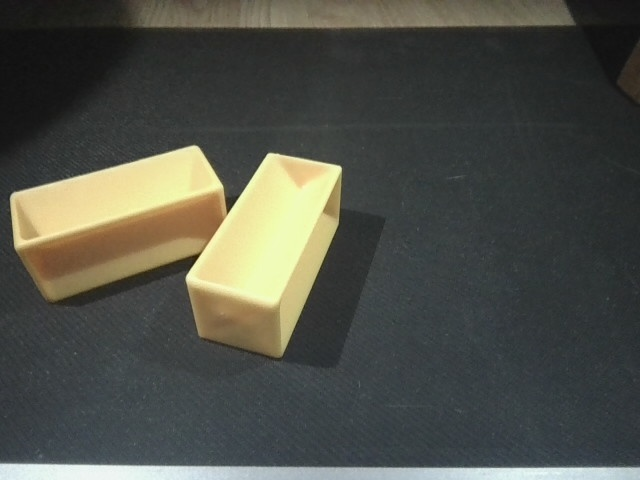YellowSample: (7, 144, 233, 304), (185, 150, 346, 362)
